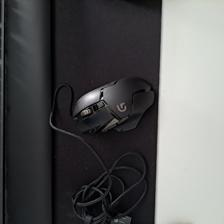mouse: (71, 75, 155, 136)
